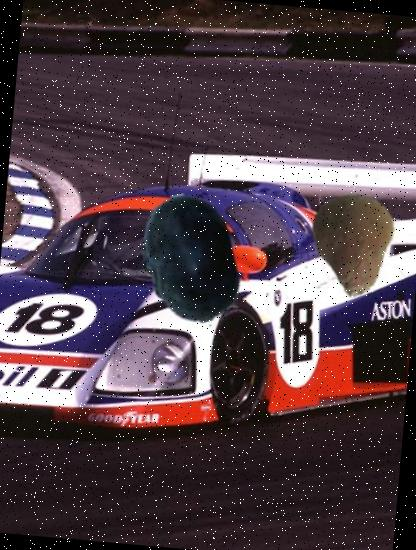Blueberry: (118, 189, 260, 331)
Potato: (292, 188, 406, 302)
